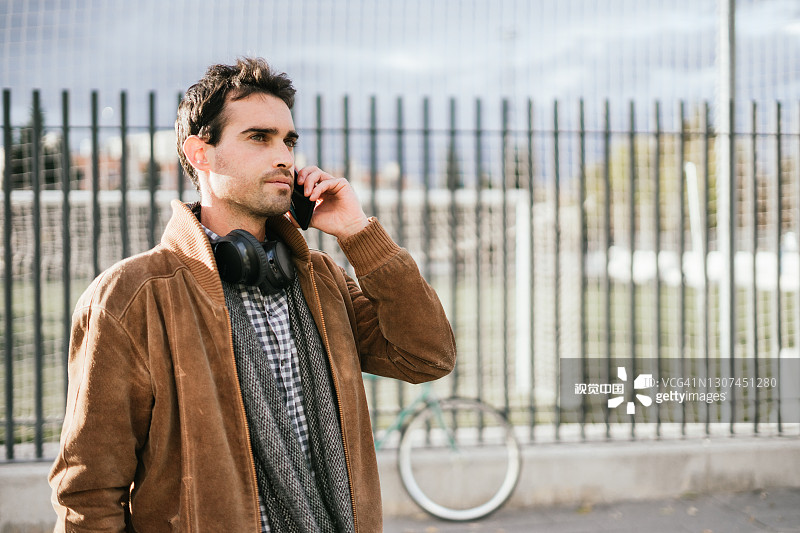calling: (283, 162, 385, 248)
